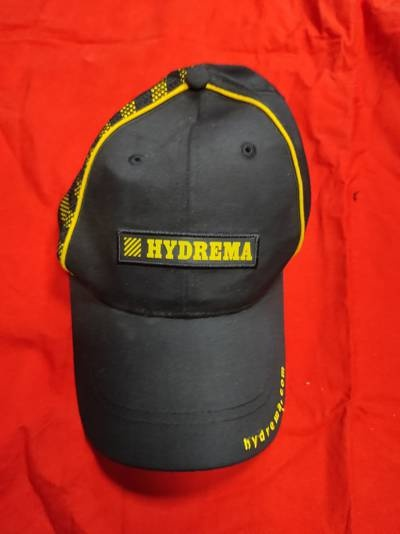Hat: (21, 50, 356, 489)
